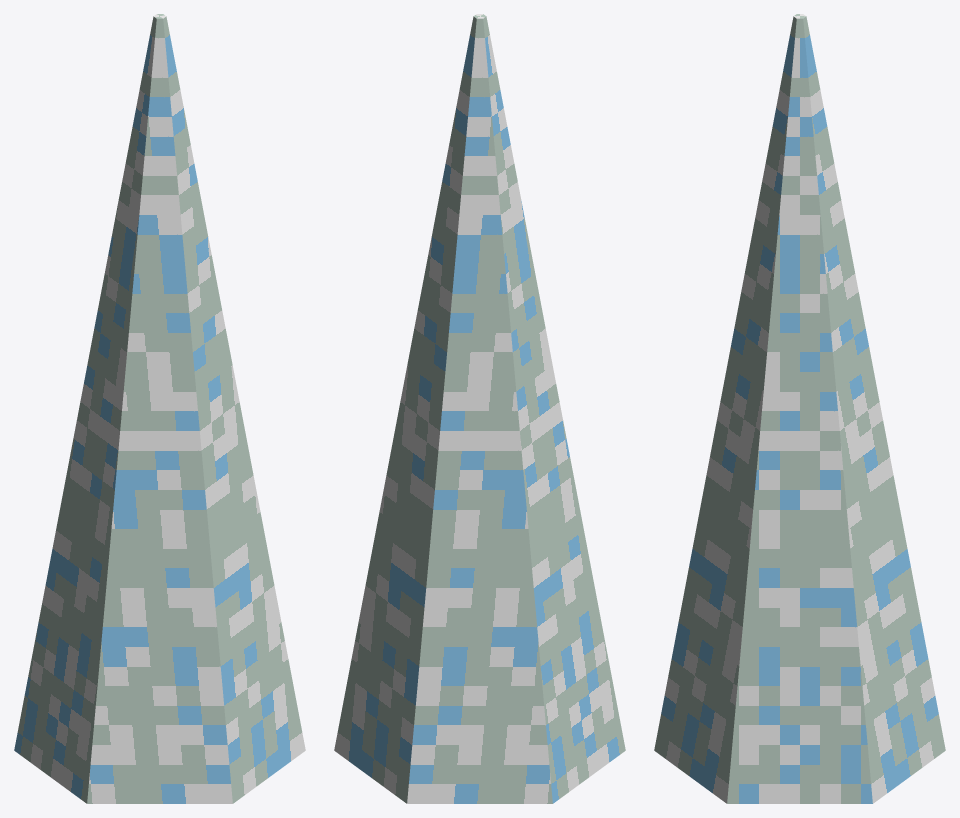
File: r09_corrente_ar.glb
3 views of the same model, side by side, from view 1: azimuth 30°, elevation 25°; view 2: azimuth 150°, elevation 25°; view 3: azimuth 270°, elevation 25° (orthographic).
Visible parts, largest first — view 1: r09_corrente_ar; view 2: r09_corrente_ar; view 3: r09_corrente_ar.
Part boxes in pixels (x1=…): r09_corrente_ar: x1=14, y1=14, x2=305, y2=803; r09_corrente_ar: x1=334, y1=14, x2=625, y2=803; r09_corrente_ar: x1=654, y1=14, x2=945, y2=803.
Bounding box in the file's own units: 0.7794 × 2.5 × 0.9.
1 material, 1 textured.
